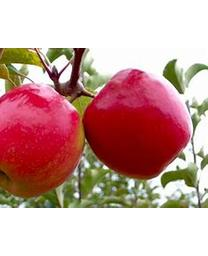apple: (81, 67, 192, 180), (0, 82, 84, 197)
